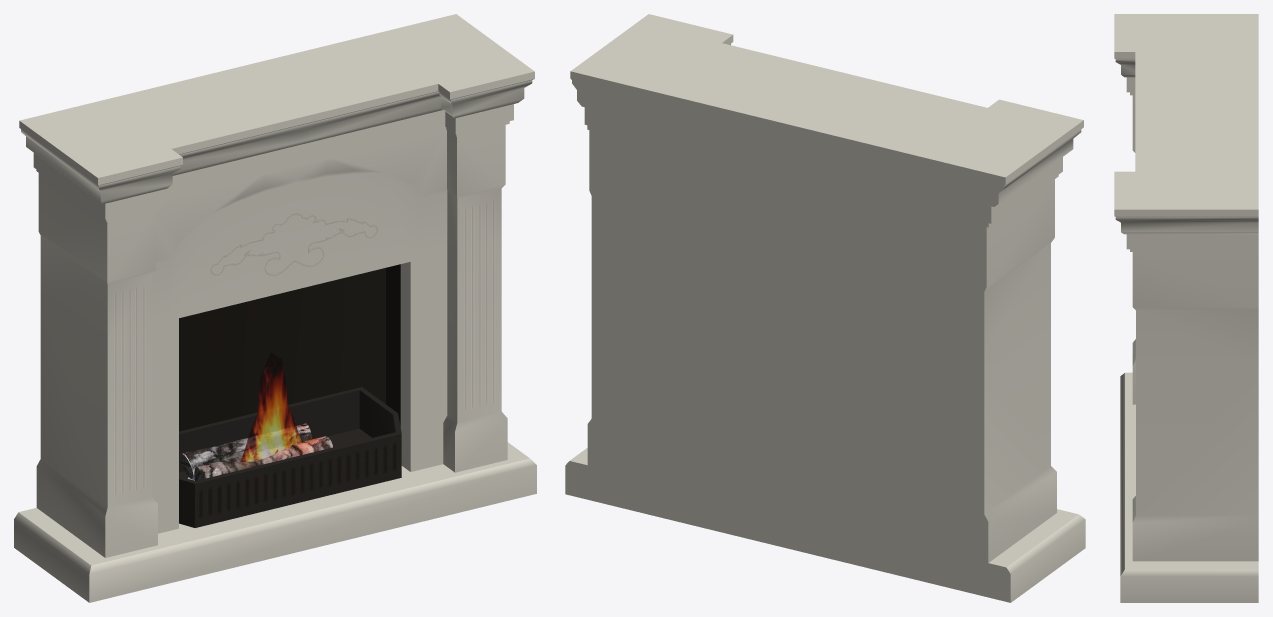
Rendered from fireplace.glb.
3 renders of one model, left to right at view 1: azimuth 30°, elevation 25°; view 2: azimuth 150°, elevation 25°; view 3: azimuth 270°, elevation 25°, orthographic. The views are drawn at different scales.
Visible parts, largest first — view 1: Object_4, Object_5, Object_8, Object_7, Object_6; view 2: Object_3, Object_4; view 3: Object_4.
Boxes of the visible parts, x1=… form: Object_4: x1=14, y1=14, x2=536, y2=602; Object_5: x1=179, y1=264, x2=400, y2=431; Object_8: x1=179, y1=387, x2=401, y2=527; Object_7: x1=180, y1=423, x2=332, y2=480; Object_6: x1=240, y1=353, x2=301, y2=461; Object_3: x1=570, y1=71, x2=1005, y2=562; Object_4: x1=565, y1=14, x2=1085, y2=602; Object_4: x1=1114, y1=14, x2=1258, y2=602.
Bounding box in the file's own units: 115 × 105 × 35.14.
Materials: 7 (7 with a texture image).
